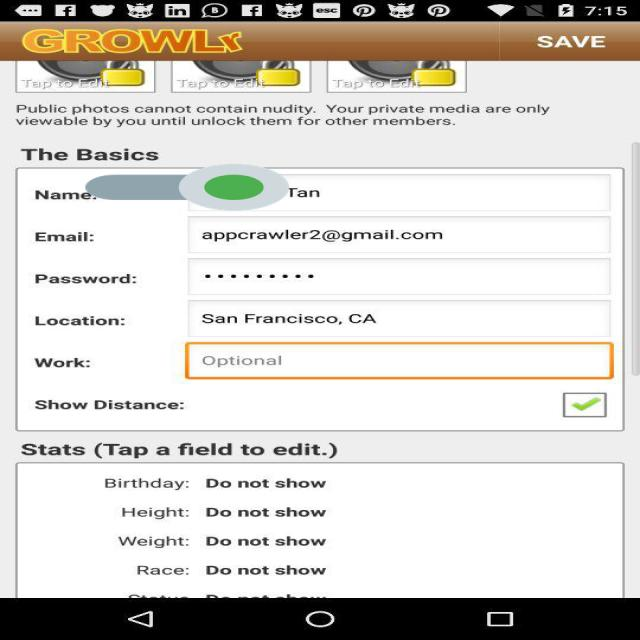social proof: (86, 144, 290, 231)
